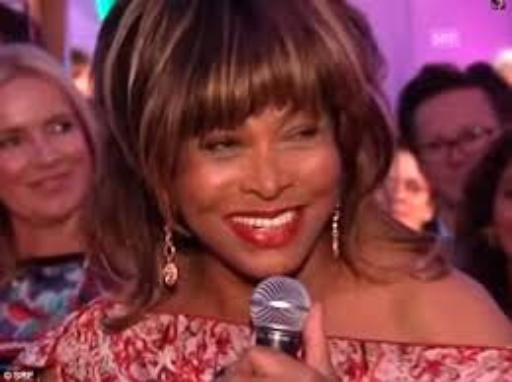left_eye: (277, 127, 322, 144), (45, 120, 76, 135)
left_lip_corner: (295, 202, 318, 216)
right_eye: (203, 137, 247, 154), (0, 131, 22, 155)
right_lip_corner: (220, 209, 238, 226)
